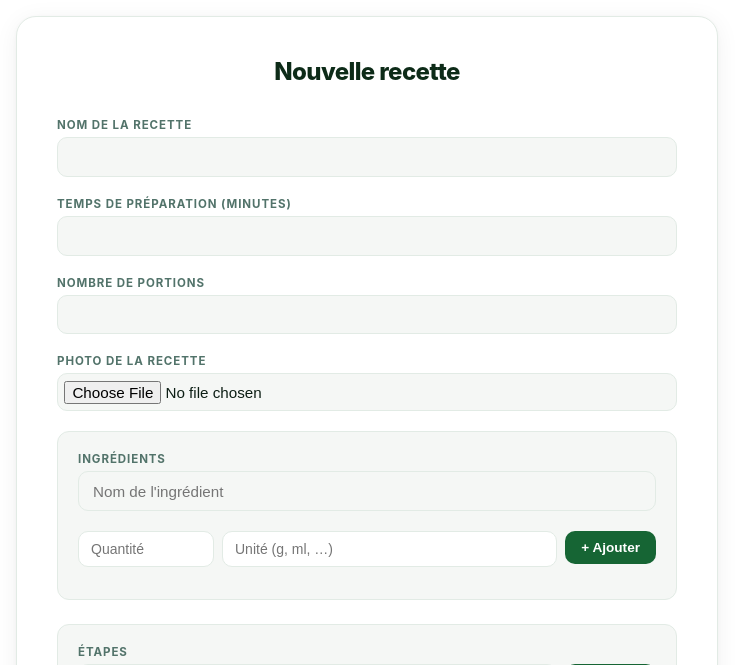
Scenario: RecetteForm — mode création › supprimer un ingrédient le retire de la liste
Type "Farine" into the field with placeholder "Nom de l'ingrédient".
click(367, 491); type("Farine")  # box x1=78 y1=471 x2=656 y2=511
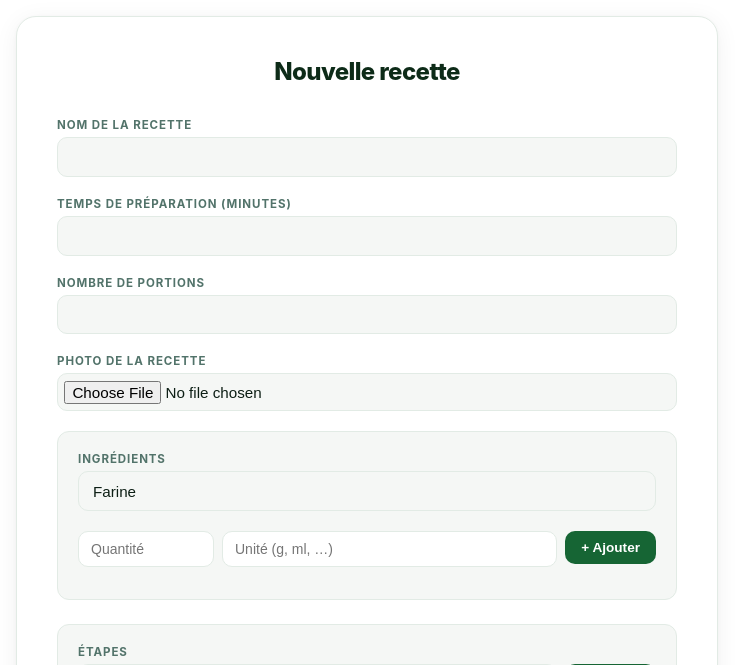
Type "200" into the number field with placeholder "Quantité".
click(146, 549); type("200")  # box x1=78 y1=531 x2=214 y2=567
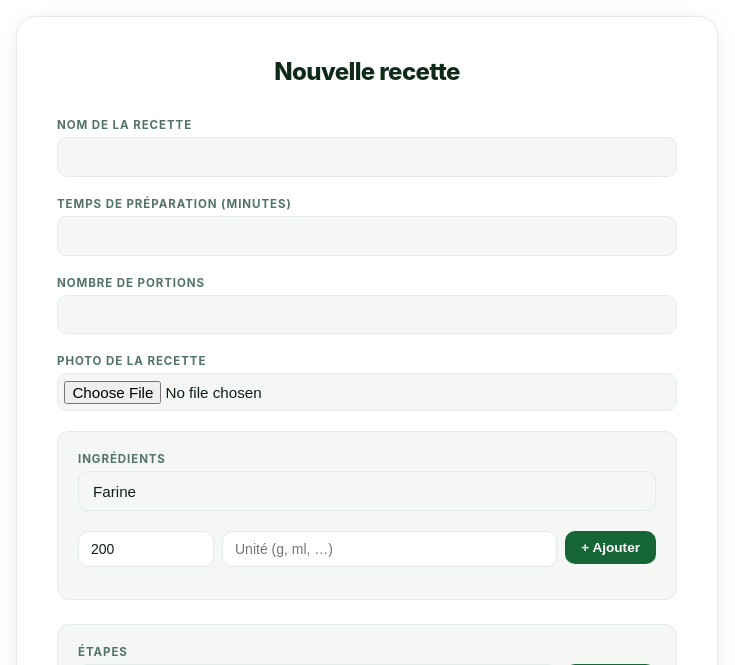
Type "g" into the field with placeholder "Unité (g, ml, …)".
click(390, 549); type("g")  # box x1=222 y1=531 x2=557 y2=567
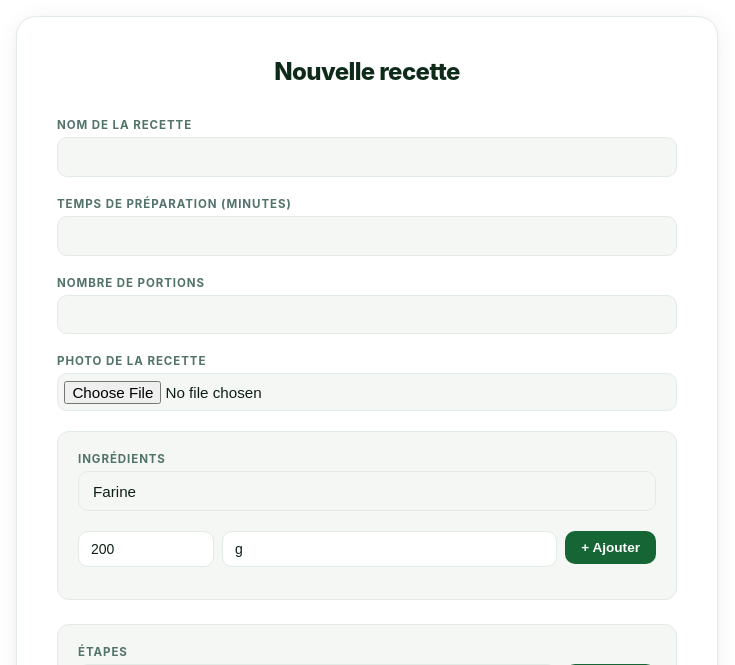
Click the 1st button "+ Ajouter".
click(611, 548)  # box x1=565 y1=531 x2=656 y2=564
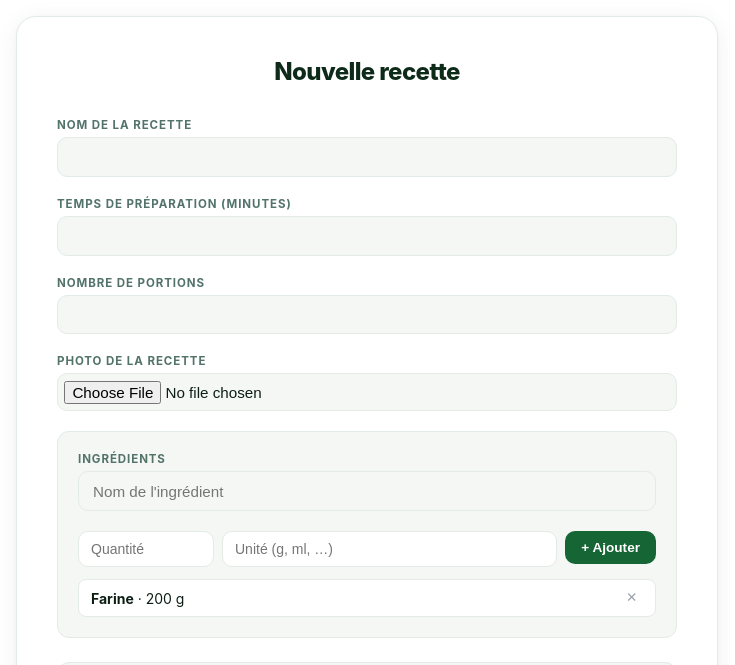
Click the button titled "Supprimer".
click(632, 598)  # box x1=620 y1=588 x2=643 y2=608
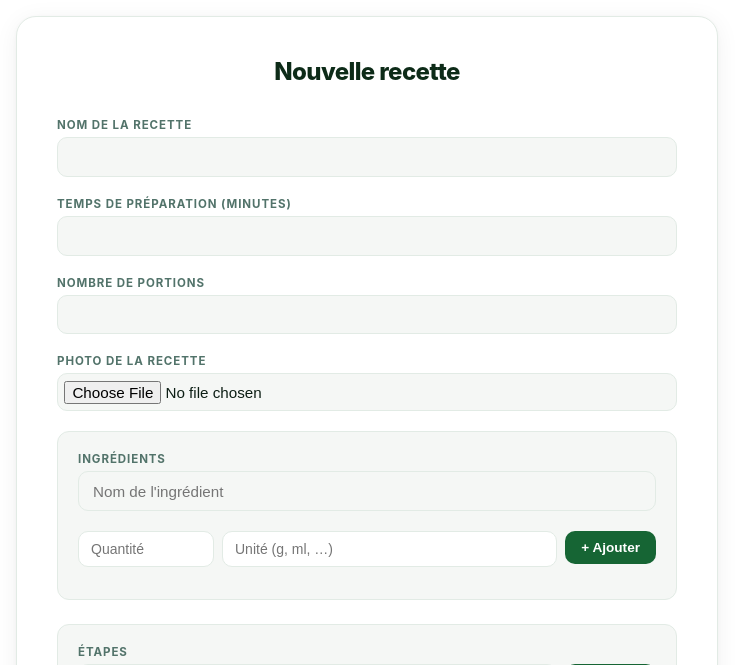
Result: the text "Farine" is gone
